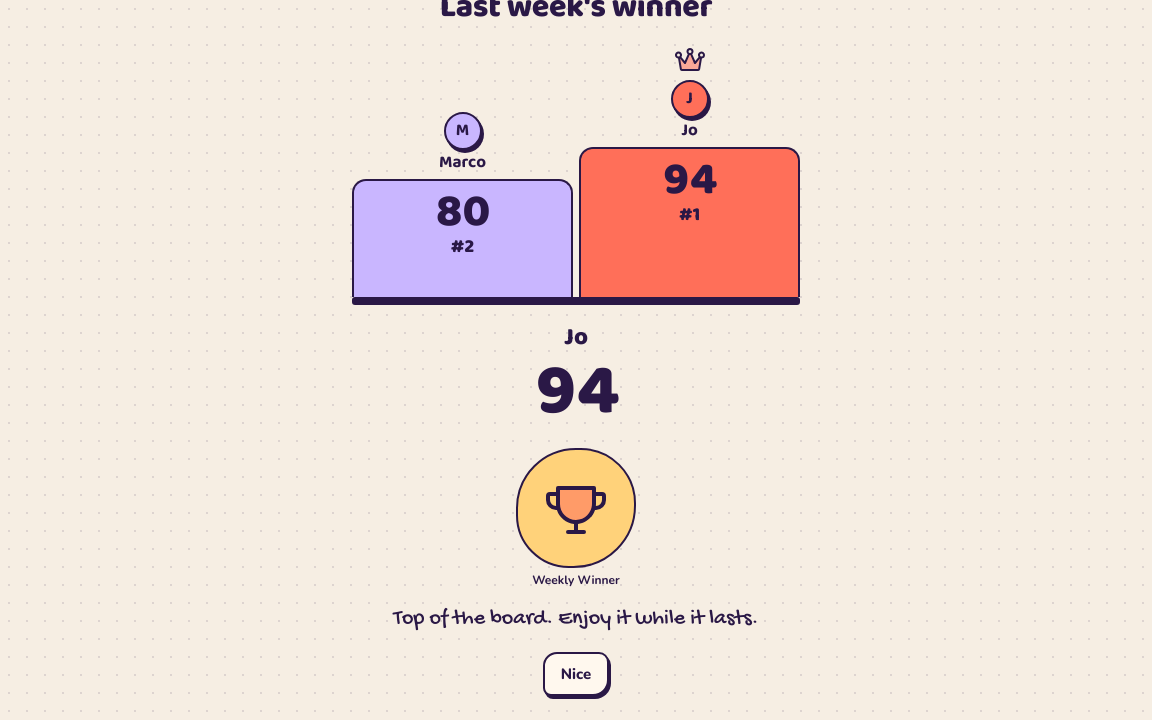
Test case: Winner card, shown once (Story 4.5) › "Nice" for the winner; closing stores the seen key and the card never comes back
This screenshot has width=1152, height=720.
(page scrolled)
Expected: the text "Top of the board. Enjoy it while it lasts." is shown, [394, 607, 758, 632]
Click the button "Nice": (576, 674) [543, 652, 609, 696]
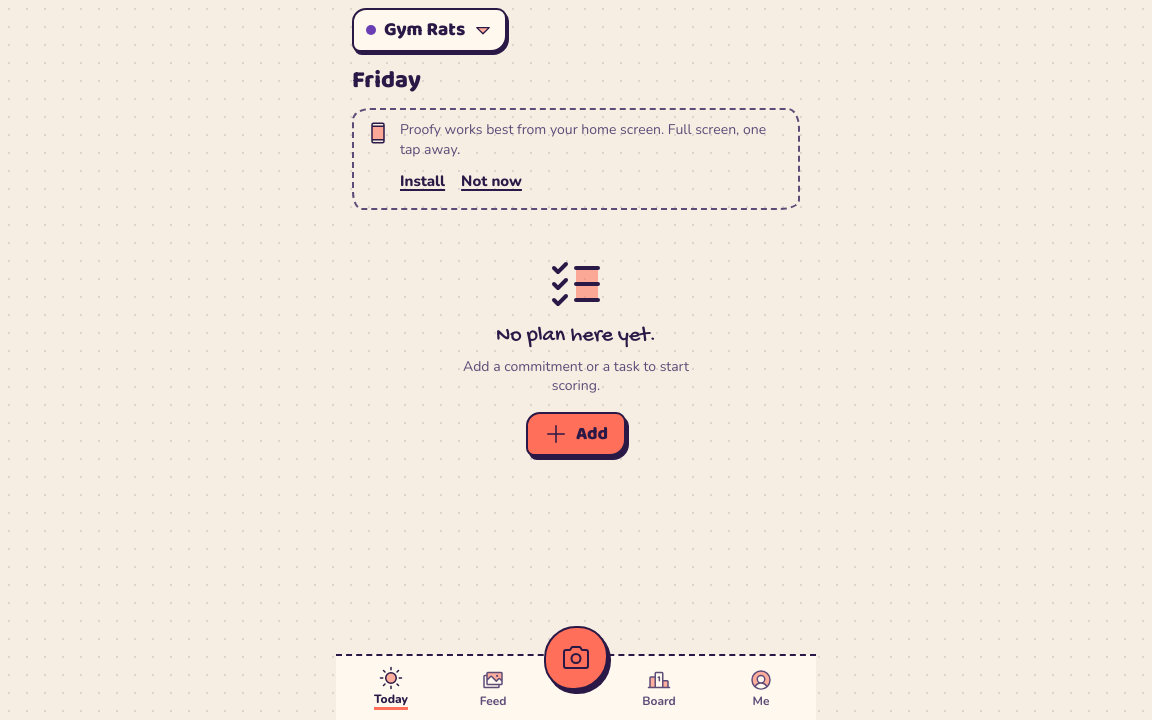
Expected: the dialog is gone
